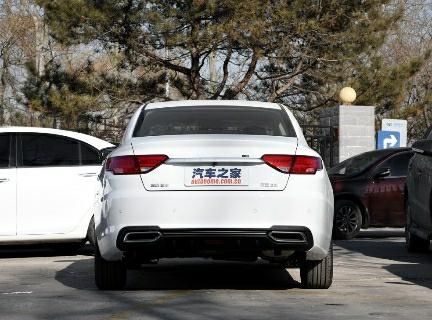car: (86, 92, 344, 294)
